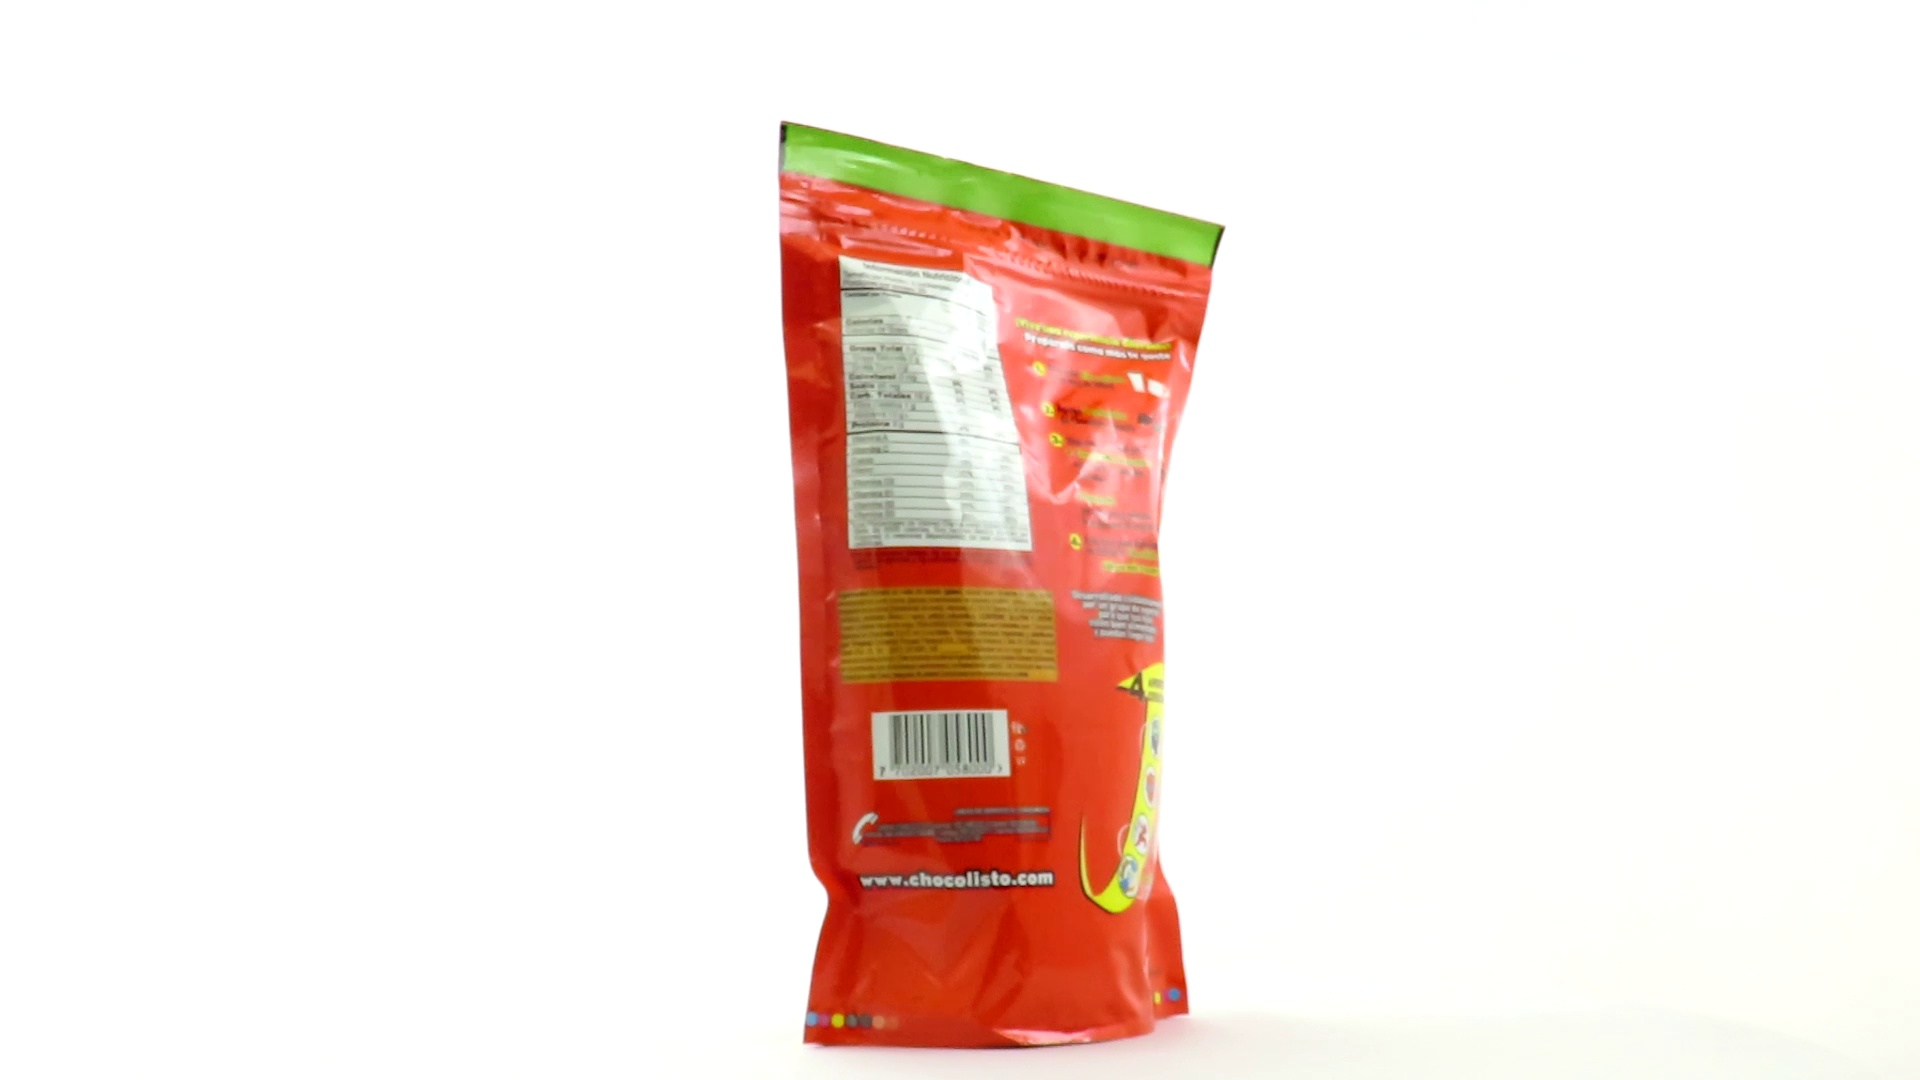COL0170102DYP50000: (773, 115, 1232, 1056)
